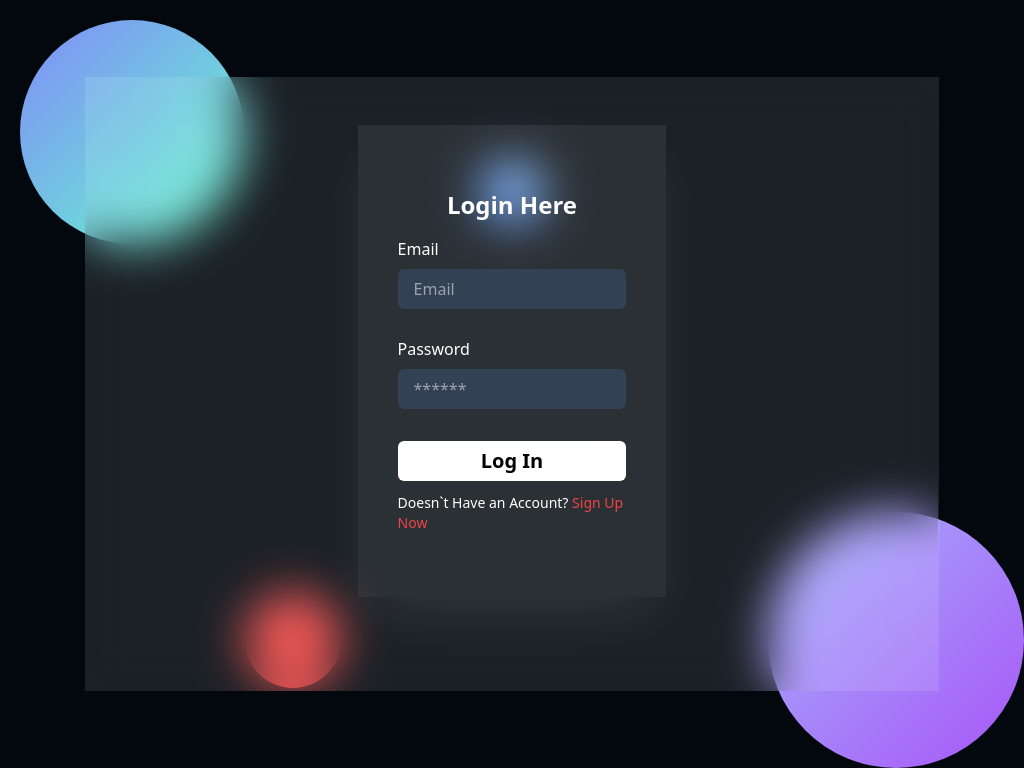
Test: Login Spec › Should navigate to register page when sign up now button is clicked
The image size is (1024, 768).
Click the link "Sign Up Now".
click(598, 502)  # box [398,493,624,532]
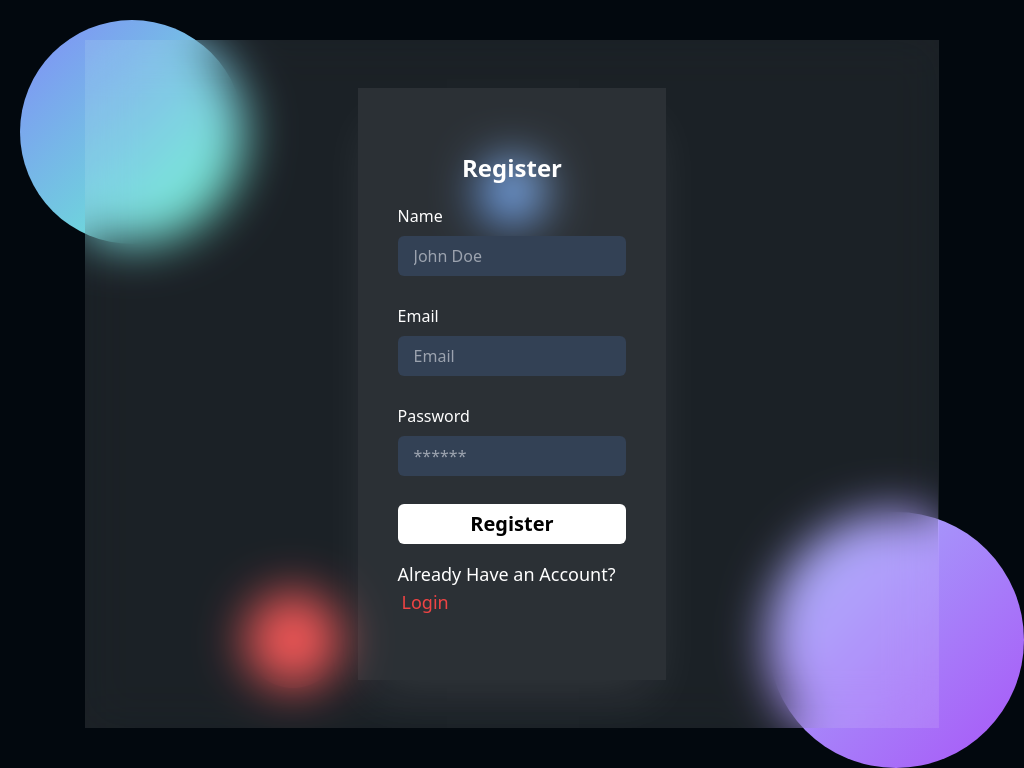
Check: the field labelled "Name" is shown, box [398,236,626,276]
Check: the button "Register" is shown, box [470,510,554,538]
